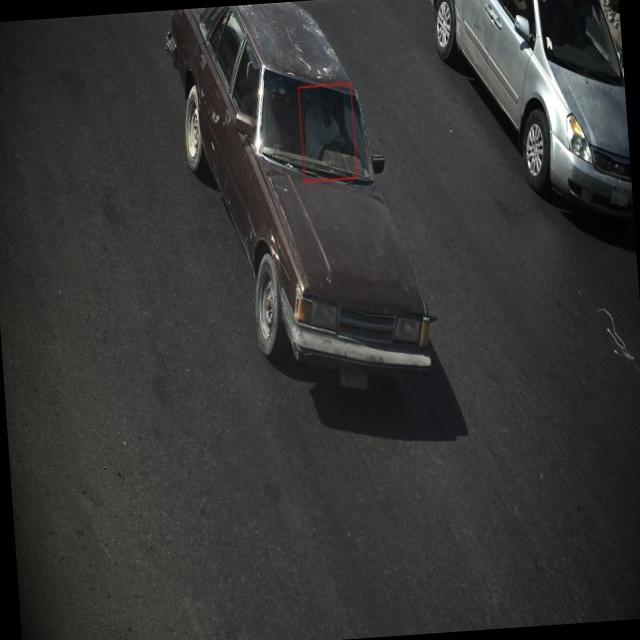person_without_seatbelt: (296, 85, 357, 175)
